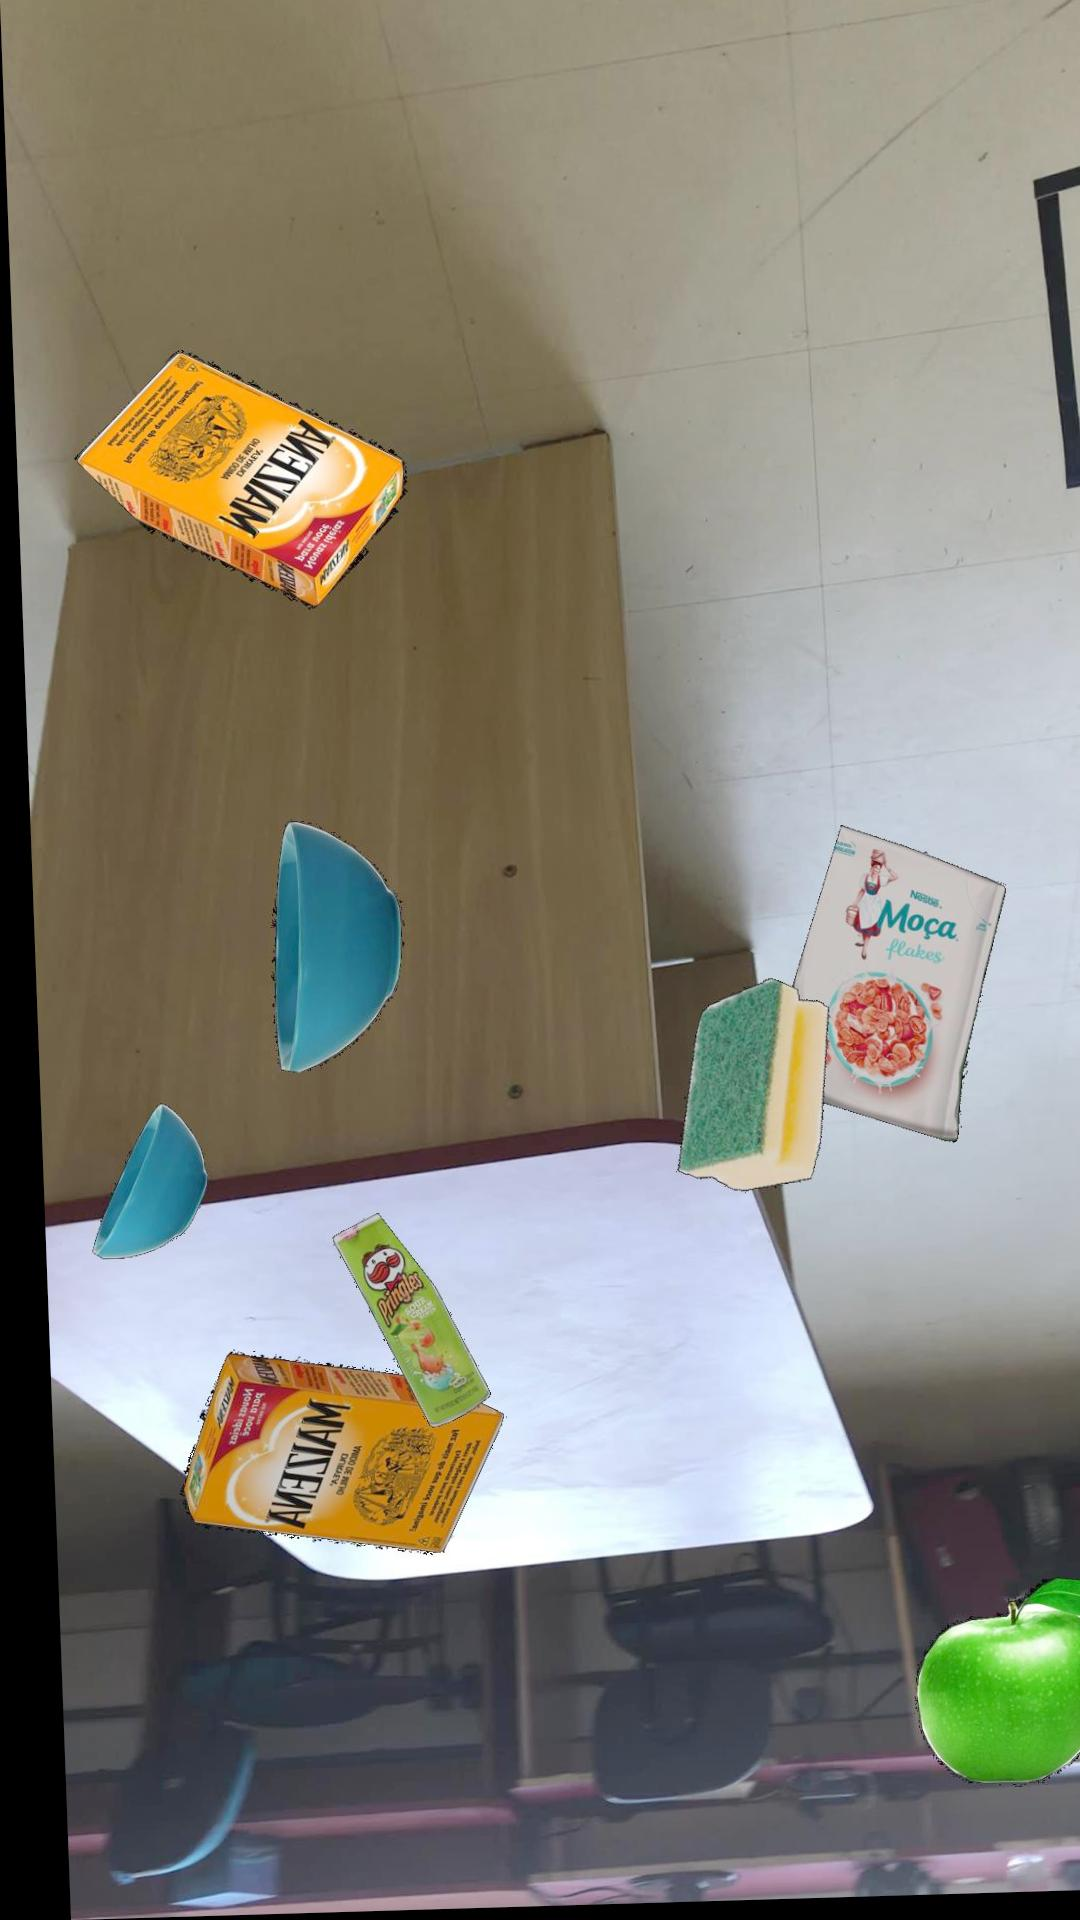bowl: (265, 824, 396, 1076), (84, 1105, 200, 1261)
corn flakes: (786, 832, 1001, 1150)
green apple: (903, 1585, 1080, 1791)
pringles: (324, 1217, 481, 1432)
sponge: (669, 985, 823, 1197)
